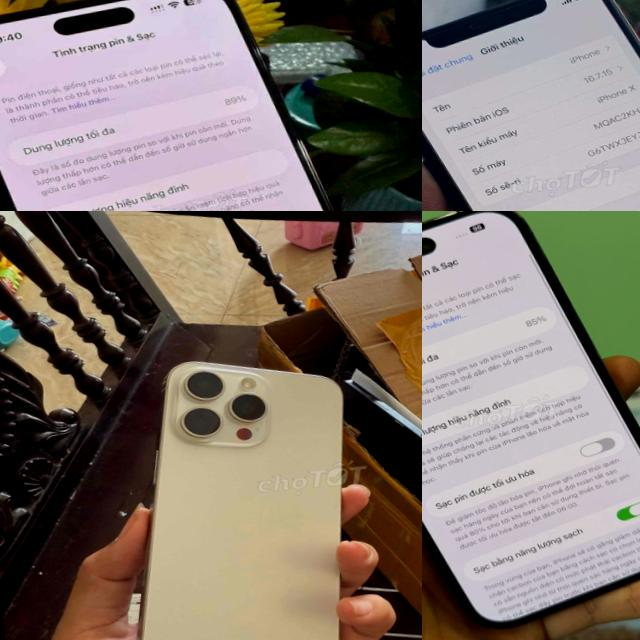gen_14: (0, 0, 418, 211)
gen_15: (422, 211, 640, 640), (107, 320, 365, 640)
gen_x_xs: (422, 0, 640, 211)
